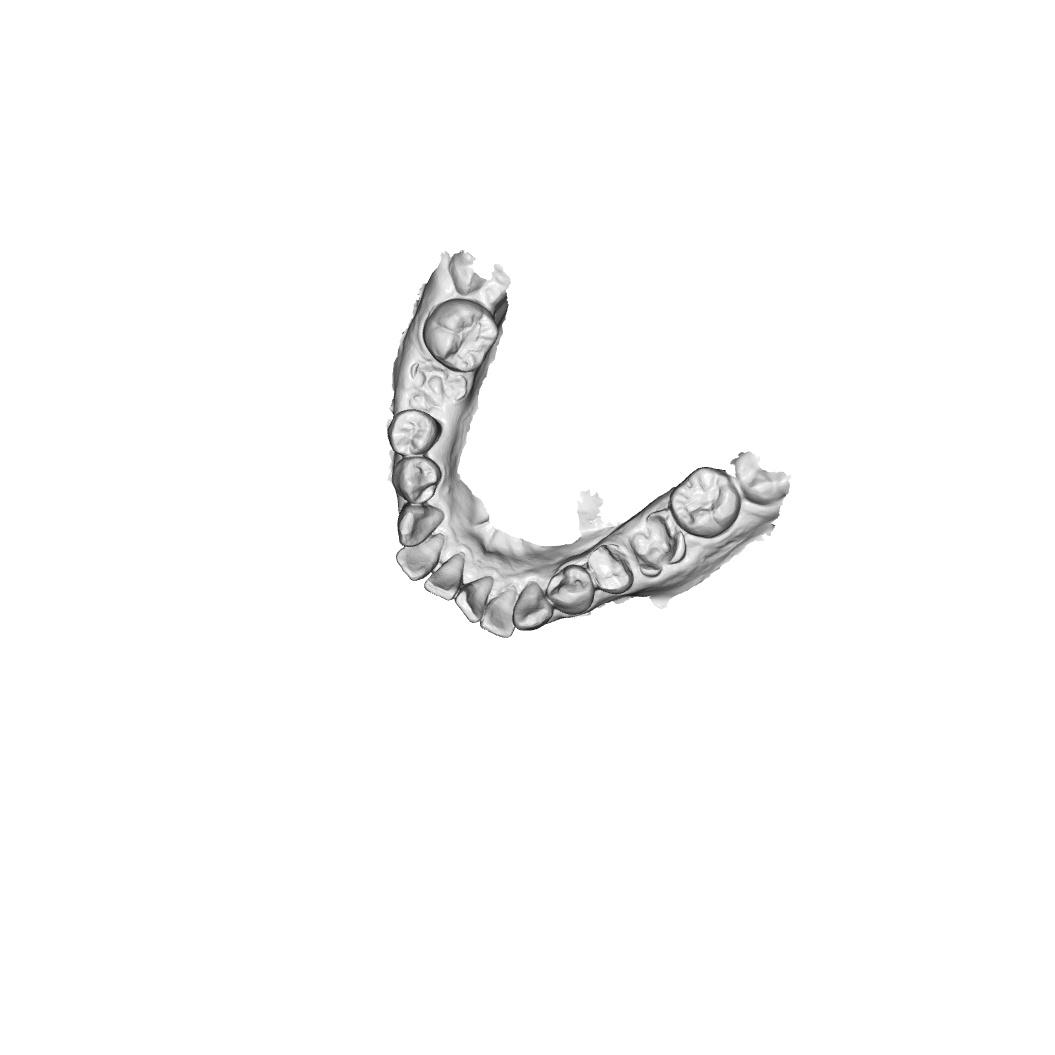canine: (512, 580, 554, 632), (396, 503, 445, 547)
incisor: (394, 533, 446, 581), (424, 551, 467, 602), (479, 585, 518, 639), (453, 575, 494, 624)
molar: (422, 297, 500, 374), (669, 466, 742, 539)
premolar: (386, 408, 442, 457), (391, 456, 443, 505), (546, 564, 595, 615), (587, 544, 635, 595)
